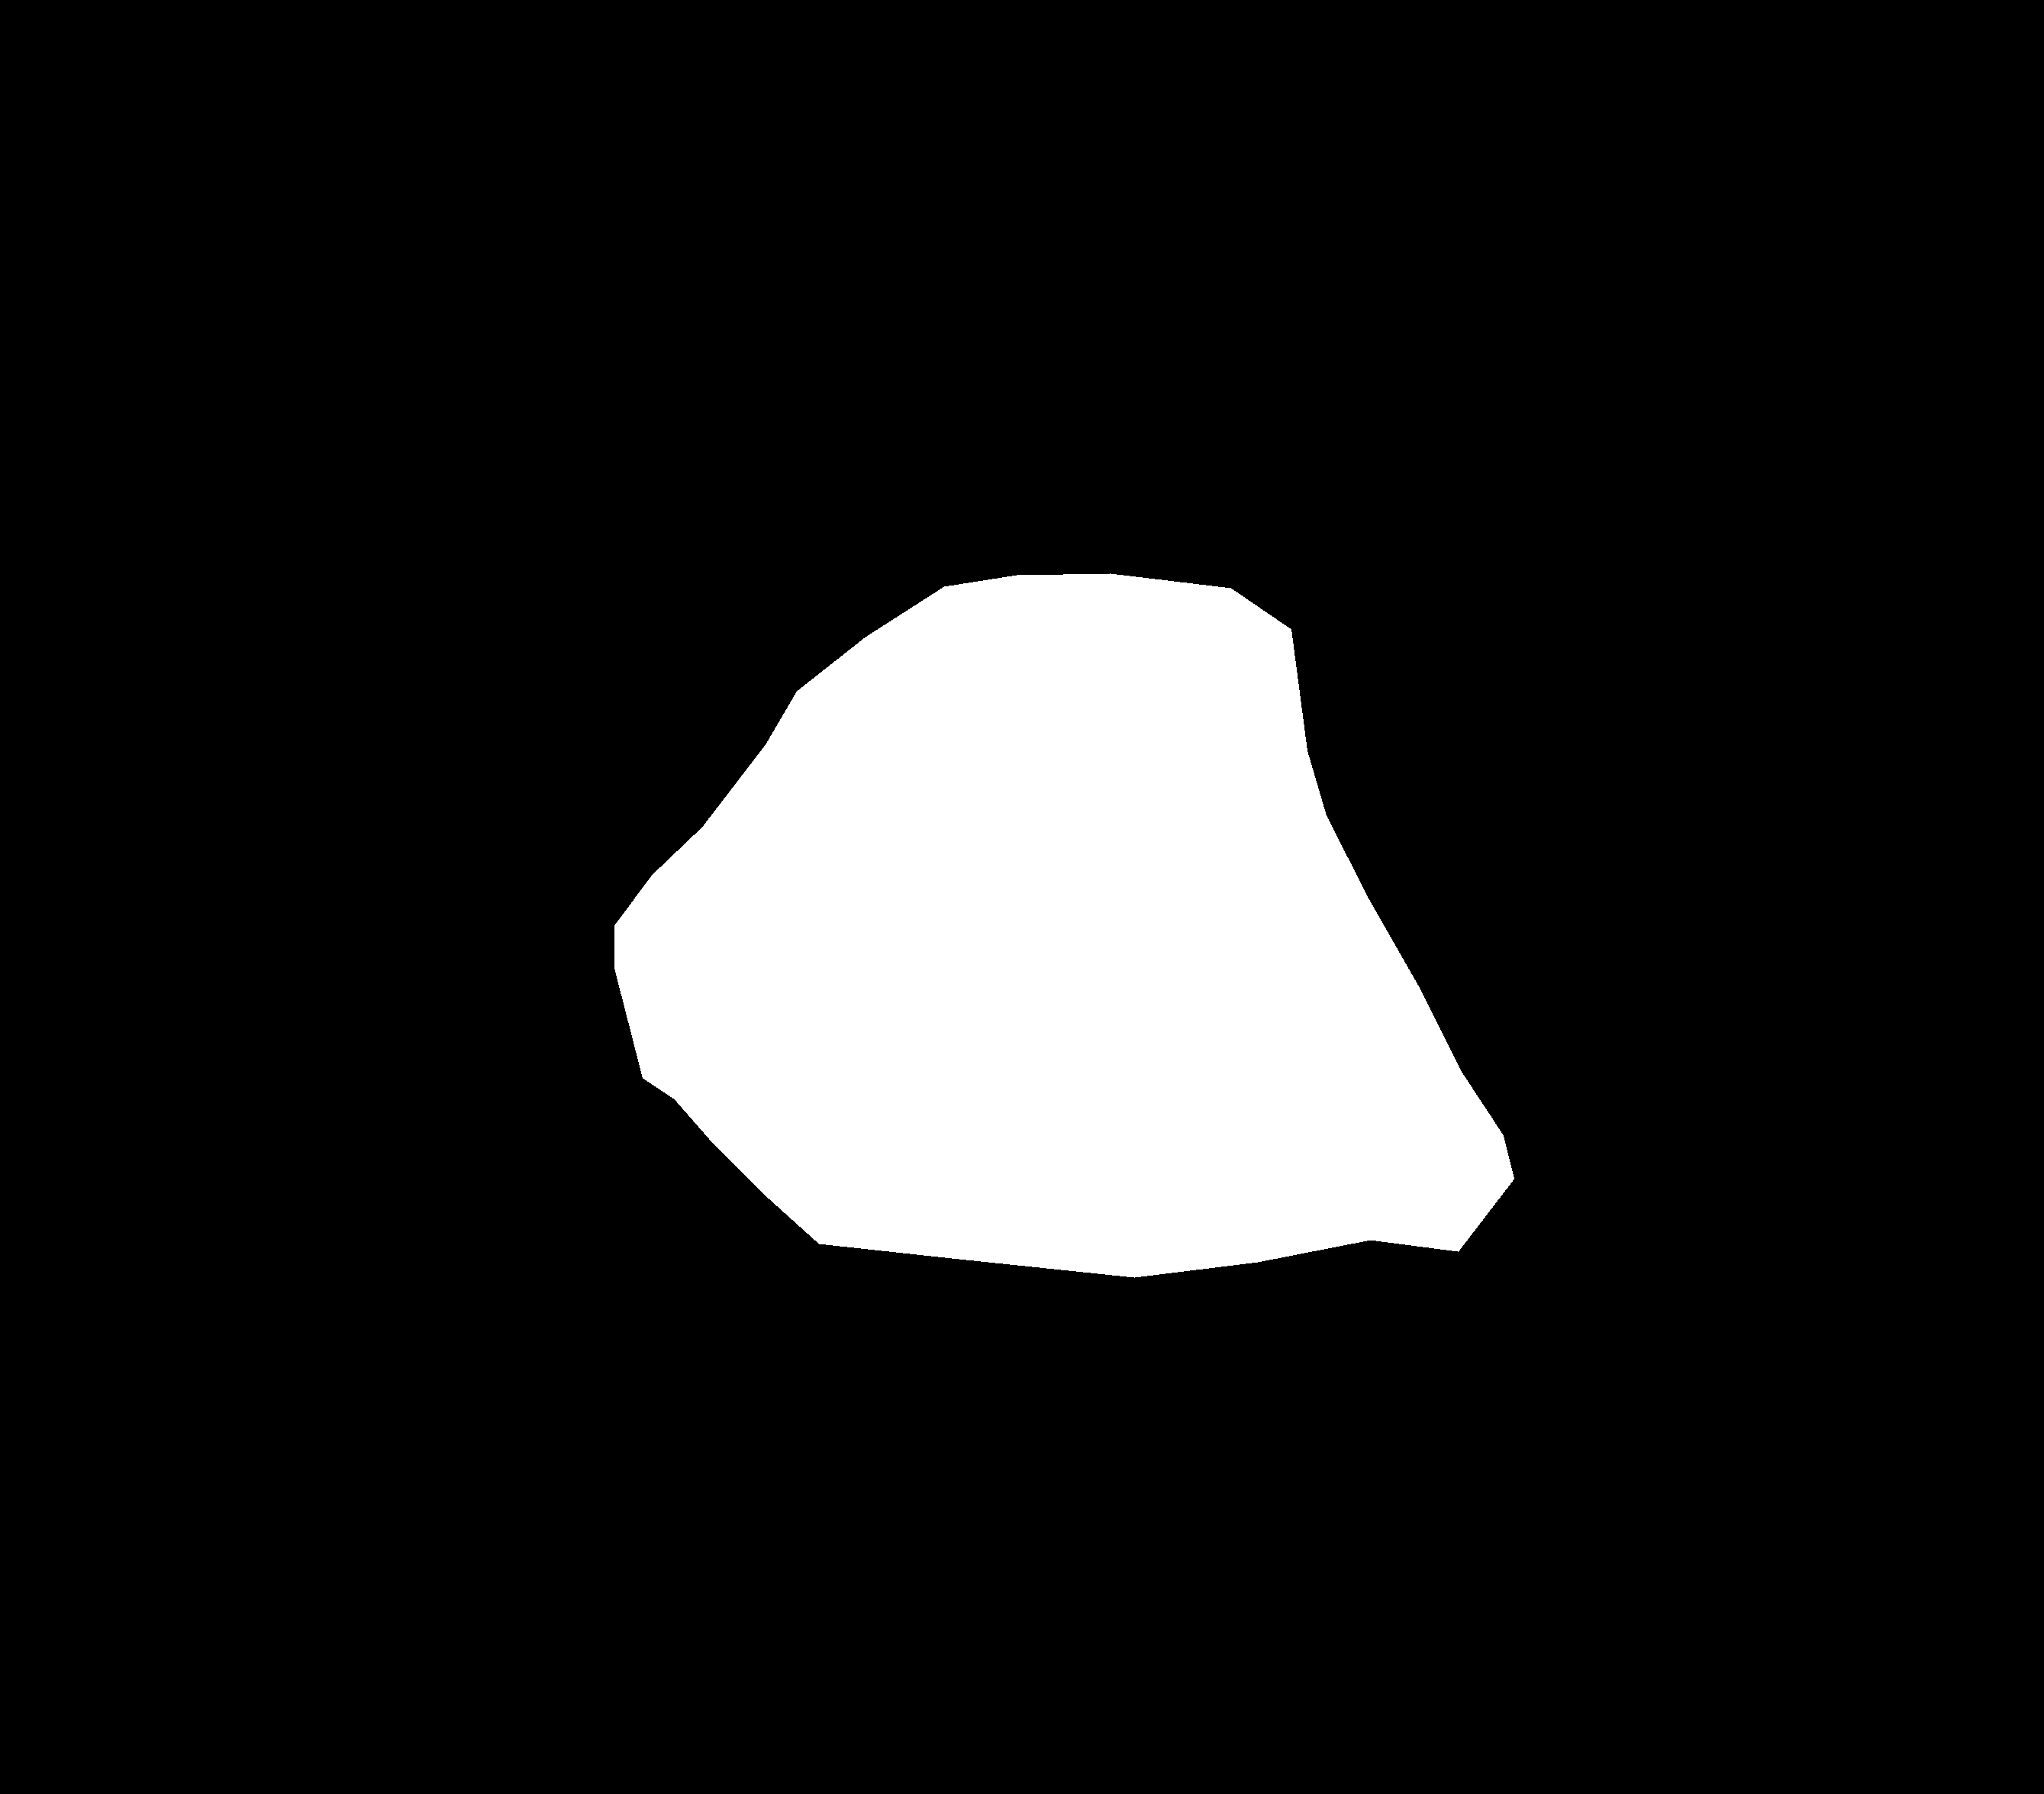heart: (615, 574, 1514, 1278)
left_lung: (233, 195, 1041, 1318)
right_lung: (1257, 242, 1698, 1587)
